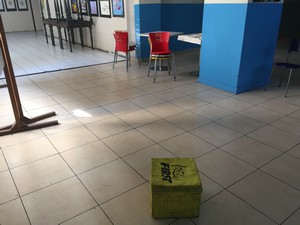cube: (151, 158, 202, 218)
